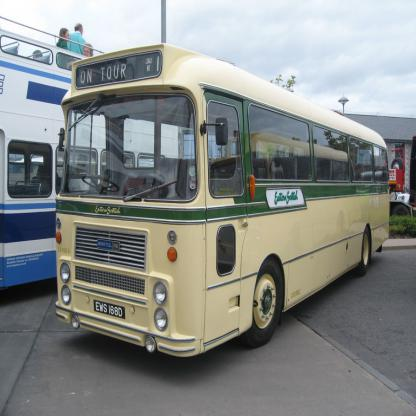Bus: (55, 43, 390, 357), (0, 17, 179, 291)
